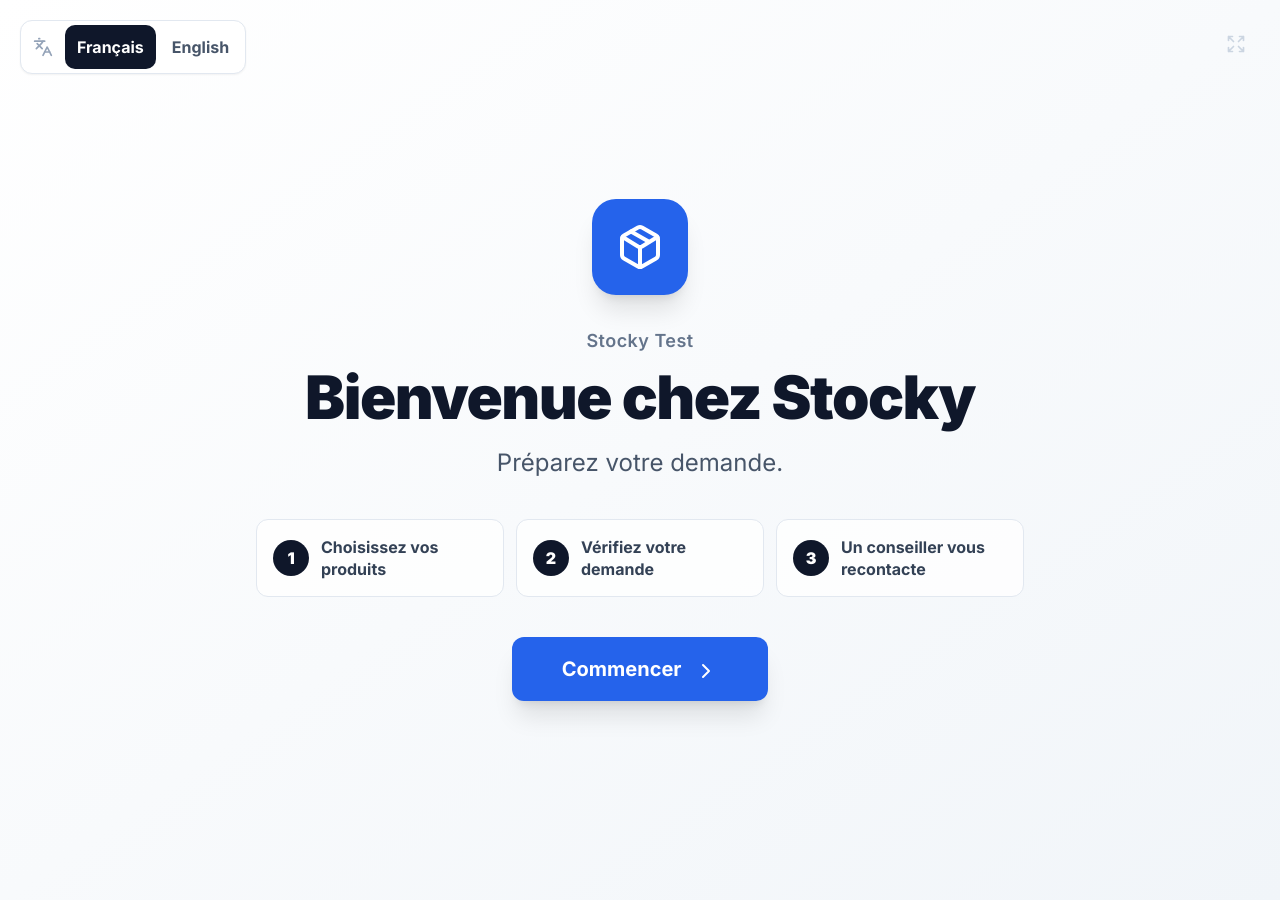
KioskPage › offers only the brands that have products for the chosen filters
Click the button "Commencer": (640, 669) x1=512 y1=637 x2=768 y2=701
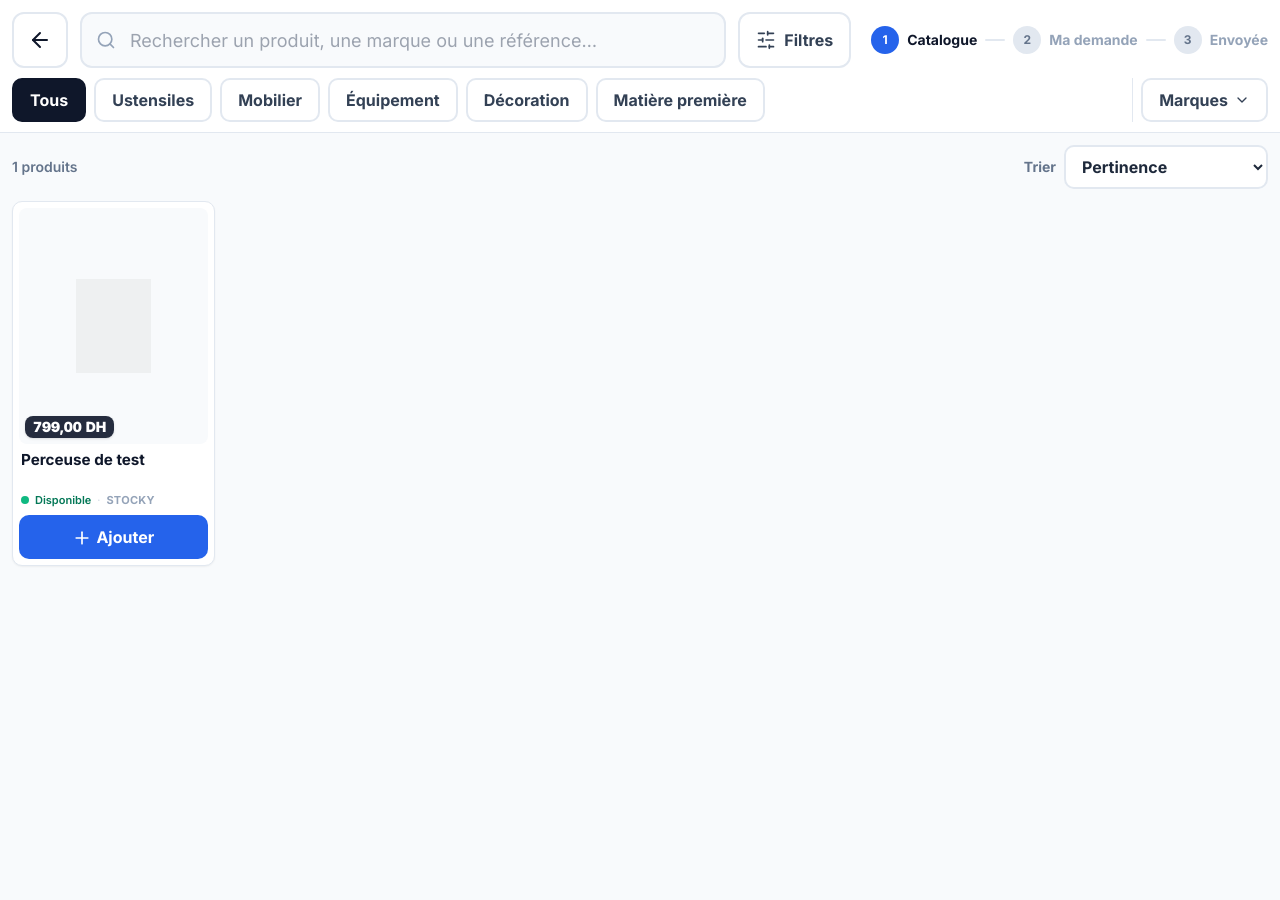
Expected: the heading "Perceuse de test" is shown, x1=21 y1=450 x2=145 y2=469
Click the button "Marques": (1205, 100) x1=1141 y1=78 x2=1268 y2=122
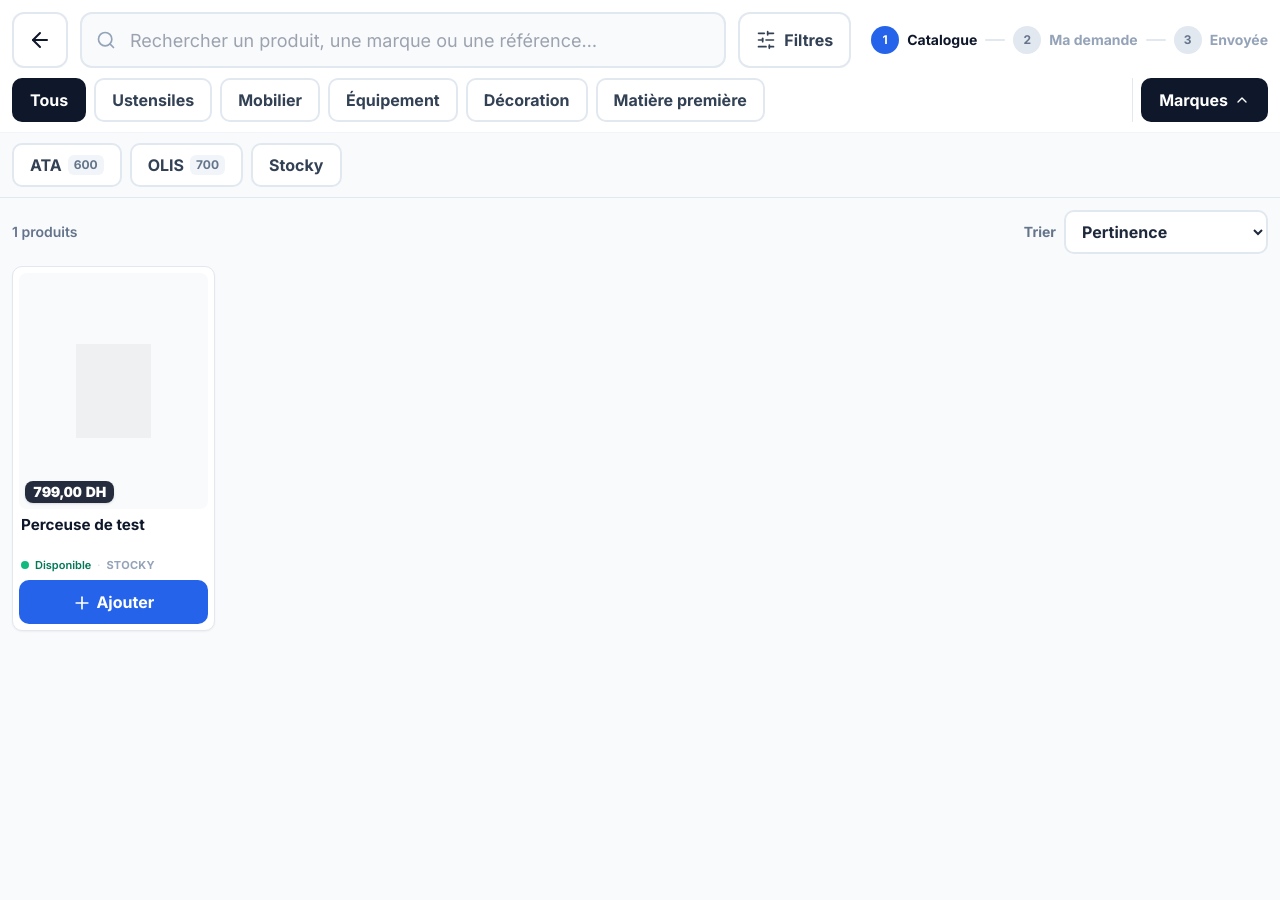
Expected: the buttons read "ATA600", "OLIS700", "Stocky", in this order, x1=12 y1=143 x2=122 y2=187; x1=130 y1=143 x2=243 y2=187; x1=251 y1=143 x2=342 y2=187
Click the button "Décoration": (527, 100) x1=466 y1=78 x2=588 y2=122
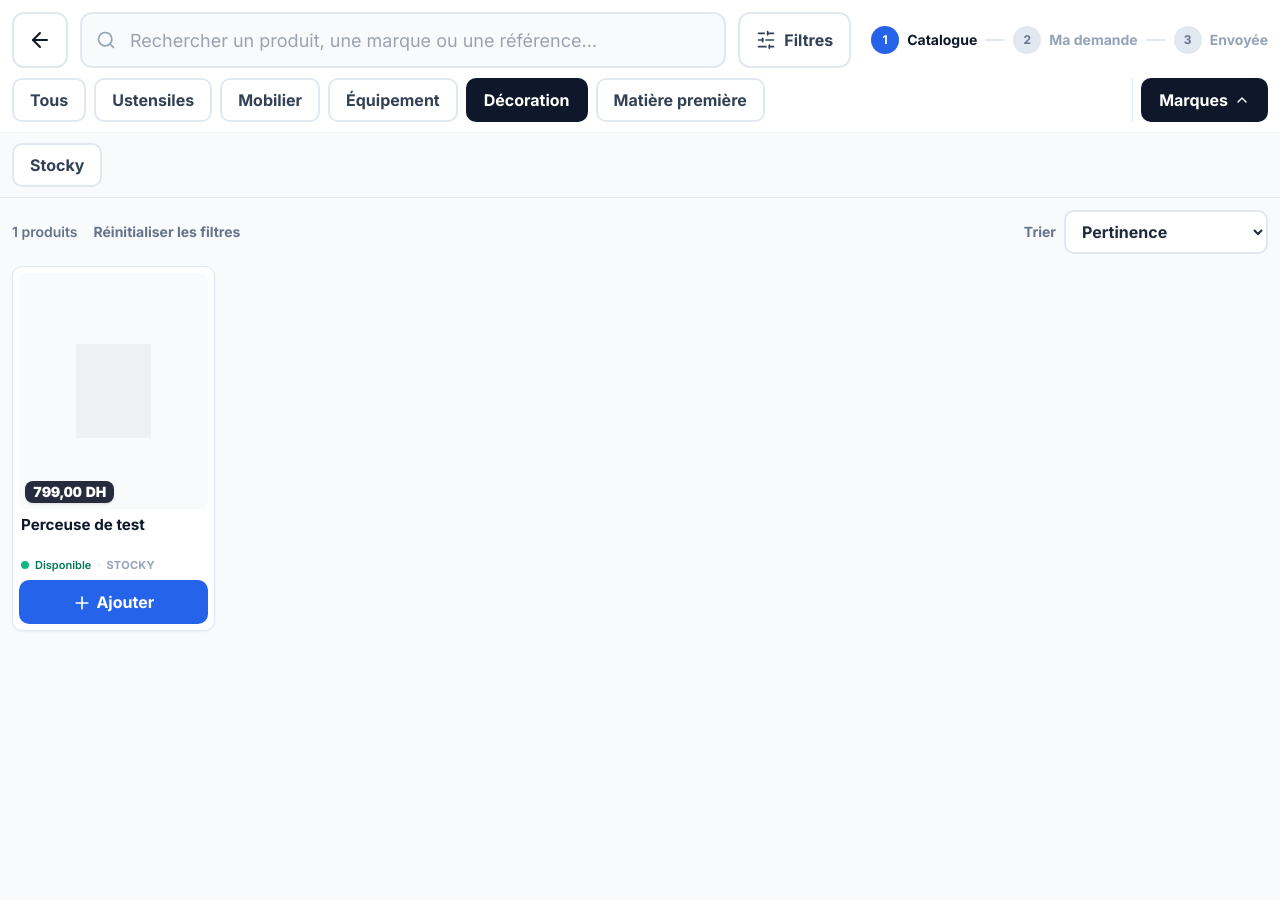
Expected: the buttons read "Stocky", in this order, x1=12 y1=143 x2=102 y2=187
